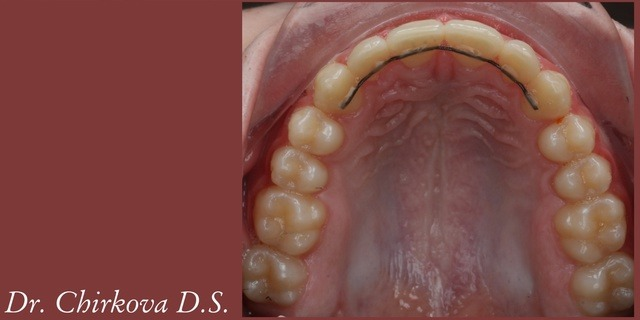UL1BC_healthy: (539, 117, 594, 162)
UL1M_healthy: (557, 196, 624, 263)
UL2BC_healthy: (555, 154, 611, 200)
UL2M_healthy: (574, 253, 632, 313)
ULCI_decay: (445, 19, 500, 65)
ULC_decay: (522, 68, 570, 118)
ULLI_decay: (500, 36, 538, 90)
UR1BC_healthy: (288, 106, 342, 153)
UR1M_healthy: (255, 191, 324, 253)
UR2BC_healthy: (271, 148, 326, 193)
UR2M_healthy: (245, 249, 307, 301)
URCI_decay: (387, 19, 442, 67)
URC_decay: (315, 63, 360, 113)
URLI_decay: (348, 37, 388, 81)
